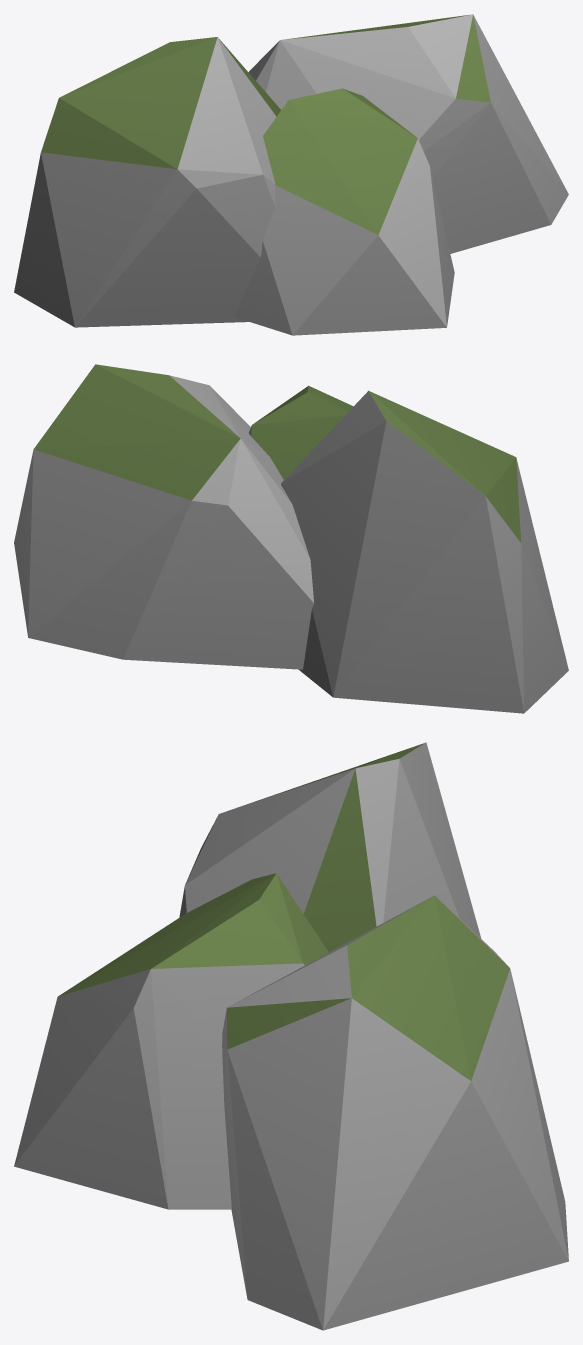
Rendered from rk_pebble_1.glb.
3 views of the same model, one above another, from view 1: azimuth 30°, elevation 25°; view 2: azimuth 150°, elevation 25°; view 3: azimuth 270°, elevation 25° (orthographic). The views are drawn at different scales.
Visible parts, largest first — view 1: rk_pebble_1; view 2: rk_pebble_1; view 3: rk_pebble_1.
Boxes of the visible parts, bbox=[...] form: rk_pebble_1: bbox=[14, 14, 568, 335]; rk_pebble_1: bbox=[14, 364, 568, 713]; rk_pebble_1: bbox=[14, 742, 568, 1330].
Size of the model in its own units: 14.74 by 6.44 by 9.77.
